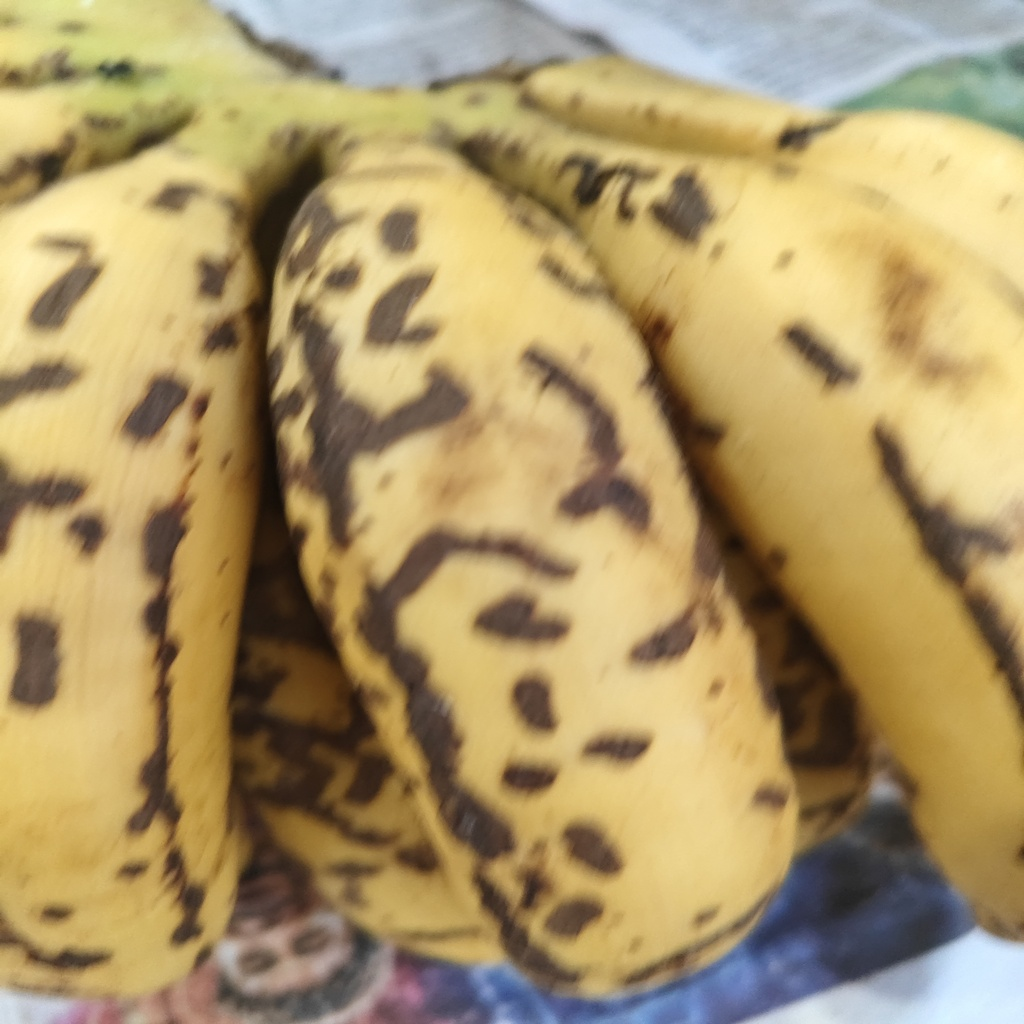unhealthy: (268, 156, 800, 998), (551, 149, 1024, 942), (1, 167, 270, 995)
